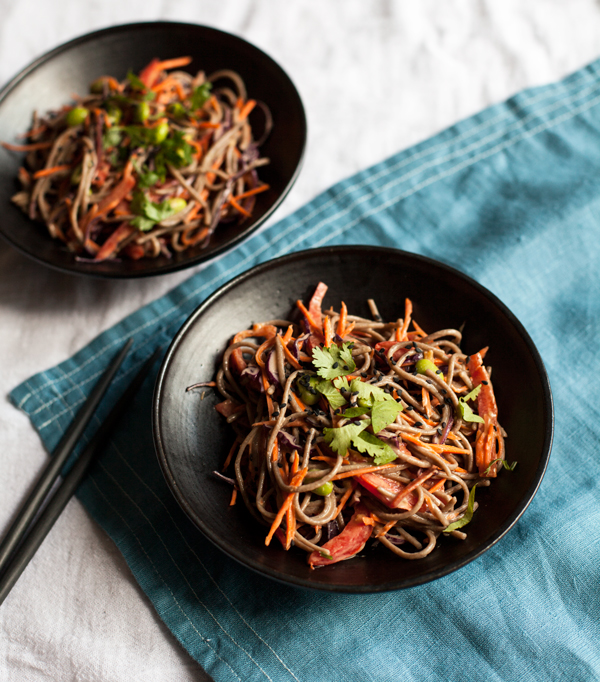Soba: (215, 298, 519, 576), (22, 69, 273, 249)
